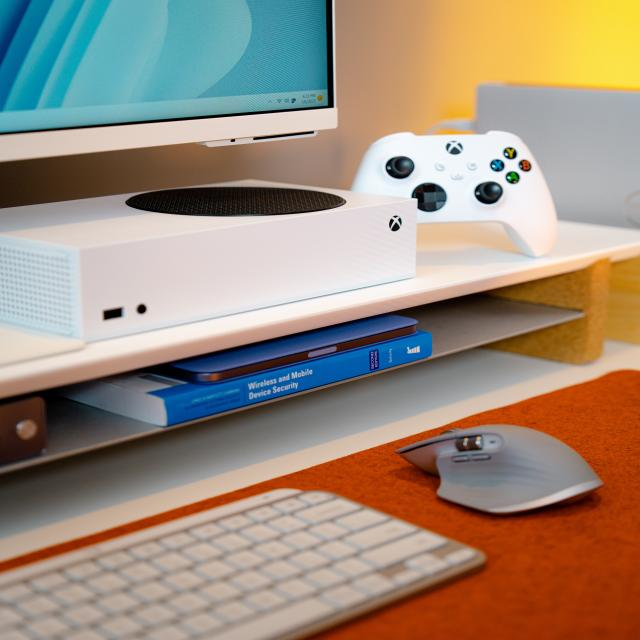Plastic: (0, 180, 419, 345), (351, 132, 560, 260), (399, 426, 603, 519)
